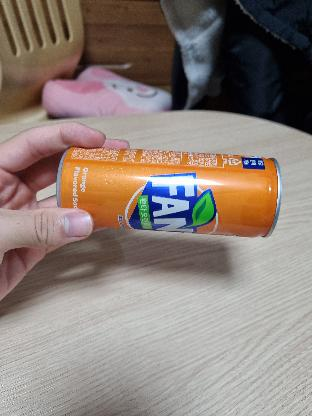Can: (61, 140, 285, 242)
